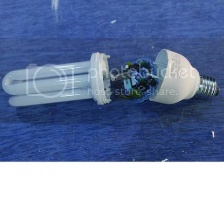light_bulb: (0, 45, 223, 110)
